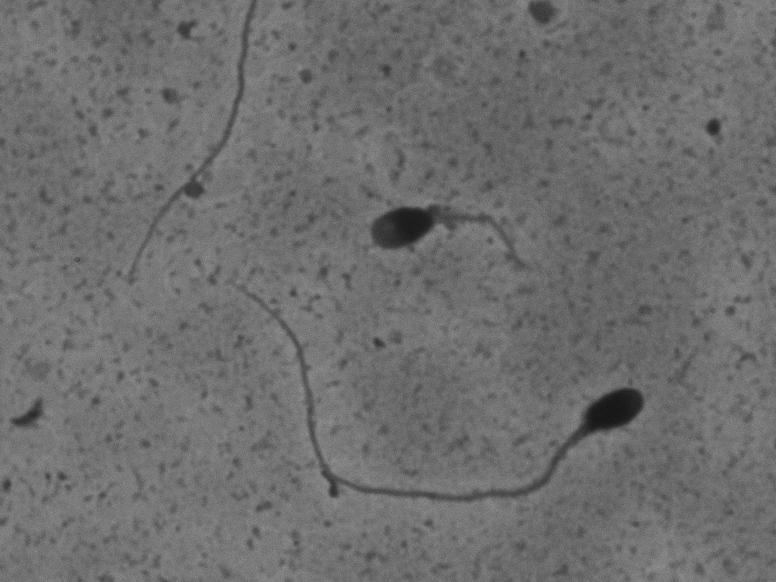Abnormal: (345, 180, 526, 314)
Normal: (186, 250, 658, 510)
